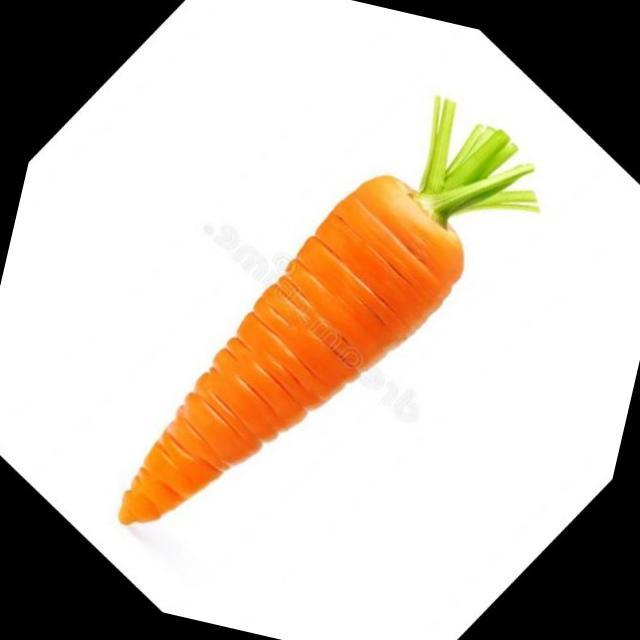carrot: (43, 14, 584, 640)
